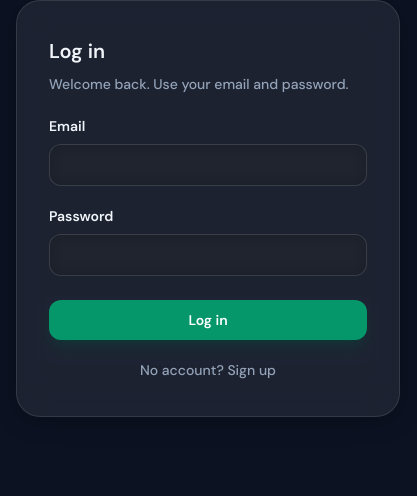
Test: auth flow › shows an error for invalid login credentials
The width and height of the screenshot is (417, 496).
Type "login@example.com" into the field with test id "auth-login-email" at x=208, y=165, box [49, 144, 367, 186]
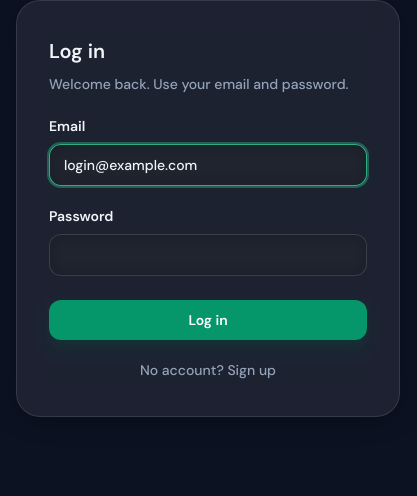
Type "wrong" into the password field with test id "auth-login-password" at x=208, y=255, box [49, 234, 367, 276]
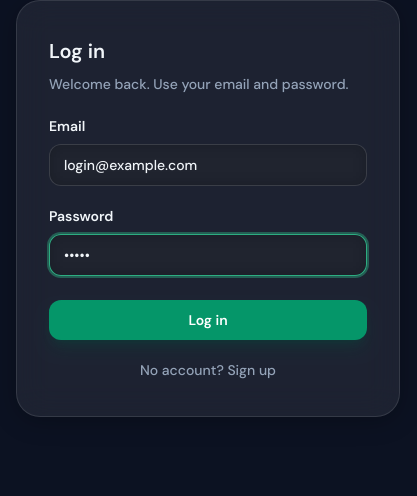
Click the button with test id "auth-login-submit" at x=208, y=320, box [49, 300, 367, 340]
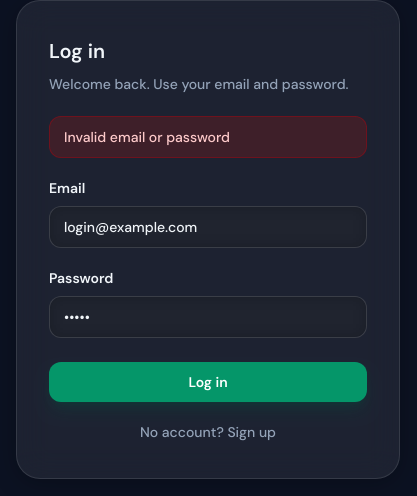
Expected: the text "Invalid email or password" is shown, [49, 116, 367, 158]
